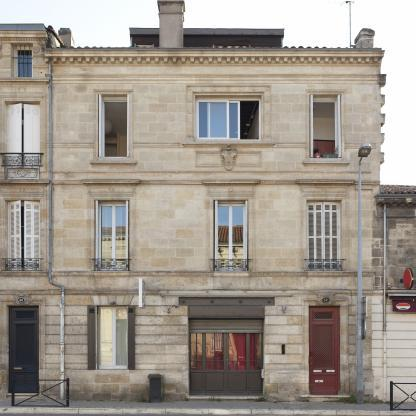Blind: (307, 200, 342, 271), (190, 320, 264, 334), (88, 306, 97, 370), (98, 94, 105, 157), (335, 95, 341, 158), (95, 200, 99, 271), (214, 200, 218, 271), (125, 200, 129, 271), (310, 95, 314, 158), (245, 200, 248, 271), (127, 94, 130, 157)
Building Outline: (43, 0, 387, 401)
Cornice: (90, 295, 135, 305), (81, 179, 141, 184), (296, 179, 355, 184), (203, 179, 260, 183)
Deco: (219, 144, 238, 170)
Door: (188, 318, 264, 396), (309, 306, 341, 395)
Facade: (46, 57, 380, 401)
Floor: (46, 178, 380, 287)
Floor Slab: (46, 78, 381, 85), (46, 280, 380, 287), (46, 171, 380, 178)
Ground Floor: (46, 287, 380, 401)
Molding: (45, 56, 384, 64)
Sill: (302, 161, 350, 166), (90, 161, 137, 166), (94, 369, 129, 375)
Top Floor: (46, 57, 380, 178)
Window: (196, 95, 262, 141), (307, 200, 342, 271), (214, 200, 248, 271), (95, 200, 129, 271), (98, 306, 130, 370), (310, 95, 342, 159), (98, 94, 130, 157), (127, 305, 135, 370)
dont: (356, 143, 372, 403), (11, 377, 70, 407), (147, 373, 163, 403)
